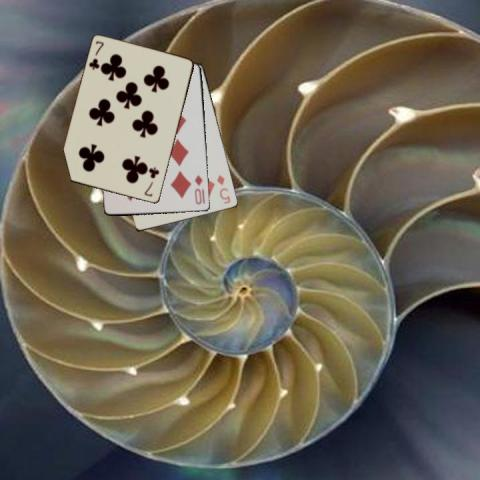10d: (192, 172, 204, 206)
5d: (214, 172, 232, 205)
7c: (142, 164, 161, 198), (86, 38, 105, 71)
